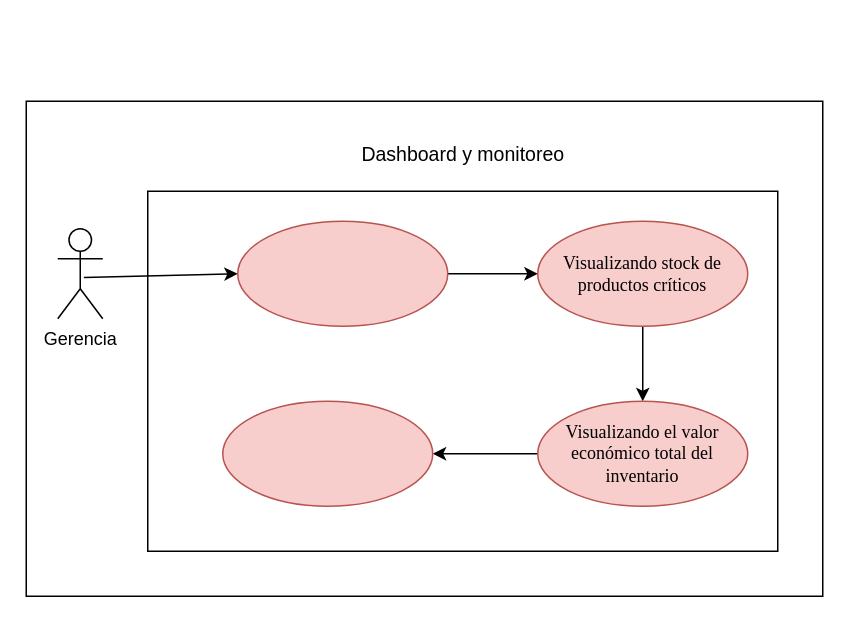
The diagram is 849 pixels wide and 623 high, and some of its shapes have lost their labels. Here are the shapes that lost their labels. From the top down, the centre of each, then its label:
At point 342,273: "Consultando stock actual".
At point 327,453: "Analizando el consumo por área".
